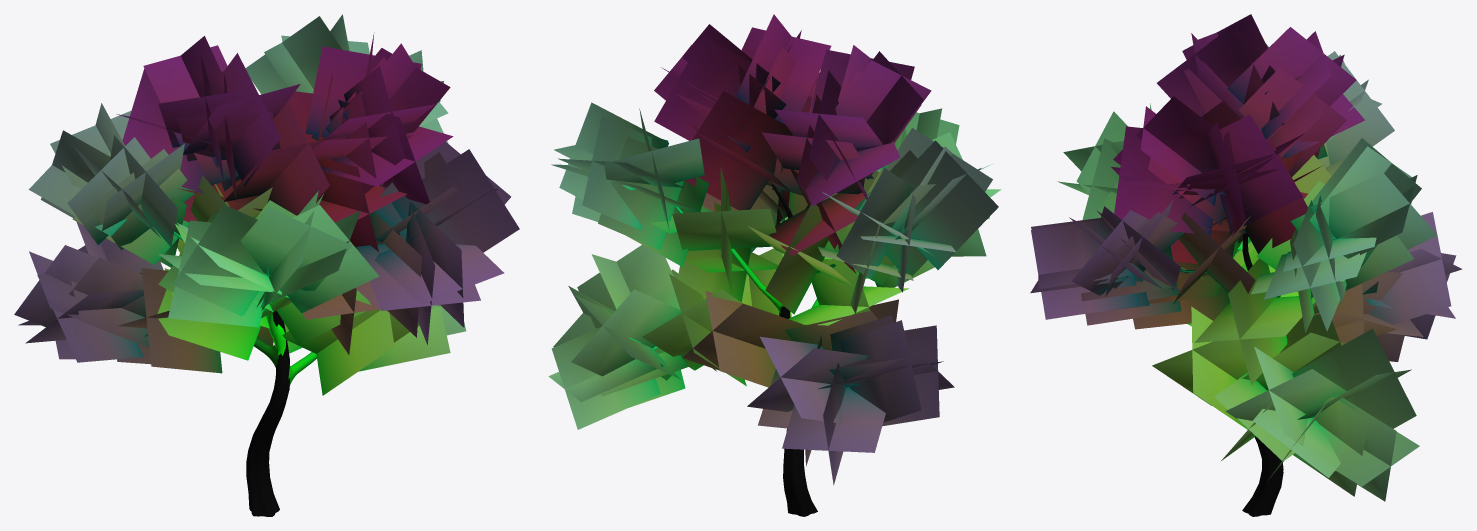
File: URP_Tree_3_LOD_1.fbx
3 views of the same model, side by side, from view 1: azimuth 30°, elevation 25°; view 2: azimuth 150°, elevation 25°; view 3: azimuth 270°, elevation 25° (orthographic). The views are drawn at different scales.
Visible parts, largest first — view 1: Tree_3_LOD_1; view 2: Tree_3_LOD_1; view 3: Tree_3_LOD_1.
Boxes of the visible parts, x1,y1,x2,y2 form: Tree_3_LOD_1: (14,14,519,516); Tree_3_LOD_1: (548,14,1001,516); Tree_3_LOD_1: (1030,14,1462,516).
Size of the model in its own units: 527 by 574 by 483.
